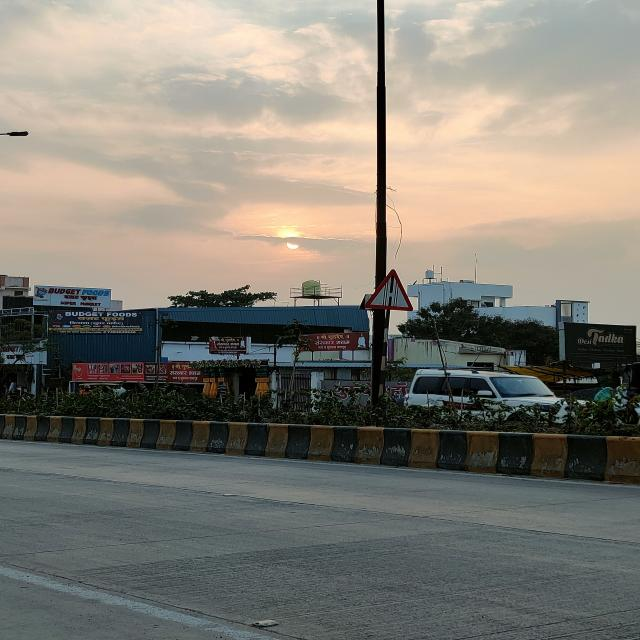GAP_IN_MEDIAN: (361, 269, 413, 310)
